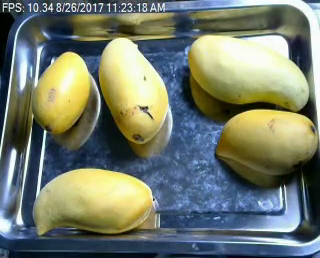Mango: (188, 35, 311, 111), (34, 168, 154, 236), (99, 35, 170, 144), (214, 110, 318, 174), (33, 51, 89, 131)
